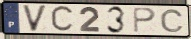2: (79, 5, 102, 33)
3: (105, 6, 130, 35)
C: (49, 4, 76, 34), (159, 9, 186, 34)
P: (132, 6, 158, 34)
V: (21, 4, 49, 33)
